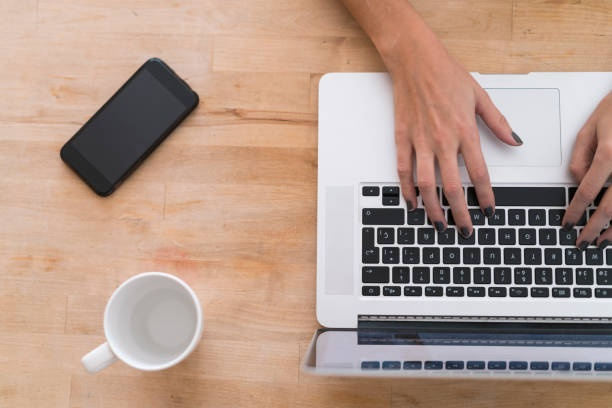keyboard: (311, 67, 612, 326)
phone: (58, 56, 201, 200)
